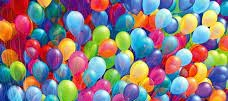Balloon: (66, 10, 84, 34), (58, 80, 78, 101), (131, 60, 149, 81), (45, 48, 62, 70), (114, 52, 130, 74), (28, 1, 43, 24), (189, 43, 207, 62), (191, 25, 210, 43), (130, 28, 146, 49), (155, 8, 171, 28), (180, 13, 196, 33), (33, 61, 49, 81), (69, 52, 85, 72), (99, 38, 116, 56), (171, 76, 188, 94), (164, 56, 180, 74), (123, 83, 139, 101), (82, 69, 98, 87), (89, 57, 105, 75), (162, 35, 178, 53), (7, 85, 25, 101), (212, 65, 228, 83), (11, 61, 26, 80), (1, 20, 13, 43), (208, 22, 224, 39), (149, 67, 166, 83), (177, 48, 192, 65), (116, 30, 130, 48), (142, 1, 160, 15), (202, 10, 217, 26), (26, 86, 42, 101), (196, 82, 211, 97), (124, 1, 140, 15), (209, 89, 226, 101), (89, 1, 109, 11)
